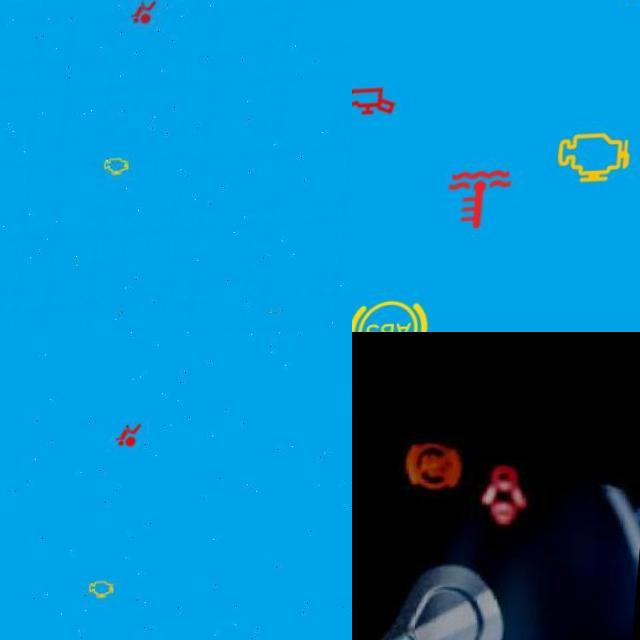High Engine Coolant Temperature: (441, 158, 533, 246)
